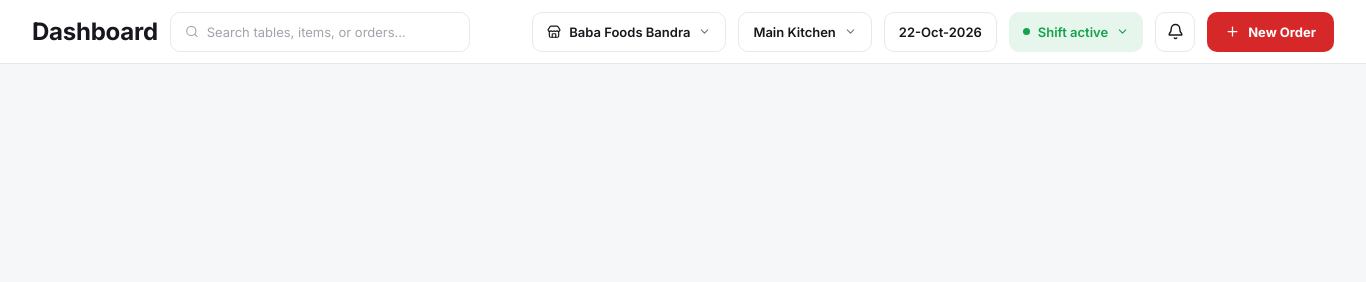
Scenario: Restaurant switcher › lists every restaurant on the login
Click the button "Baba Foods Bandra". click: (629, 32)
box: x1=532 y1=12 x2=726 y2=52
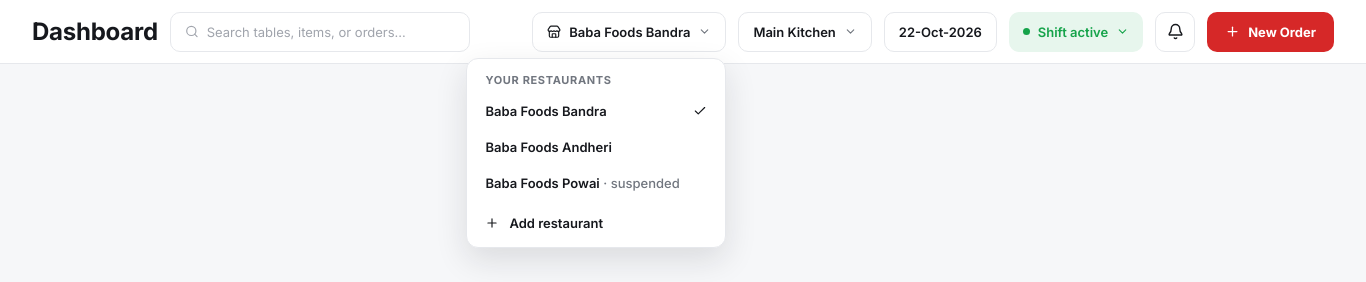
Now the text "Baba Foods Andheri" is shown, box x1=485 y1=138 x2=612 y2=154
Now the text "Baba Foods Powai · suspended" is shown, box x1=485 y1=174 x2=707 y2=190
